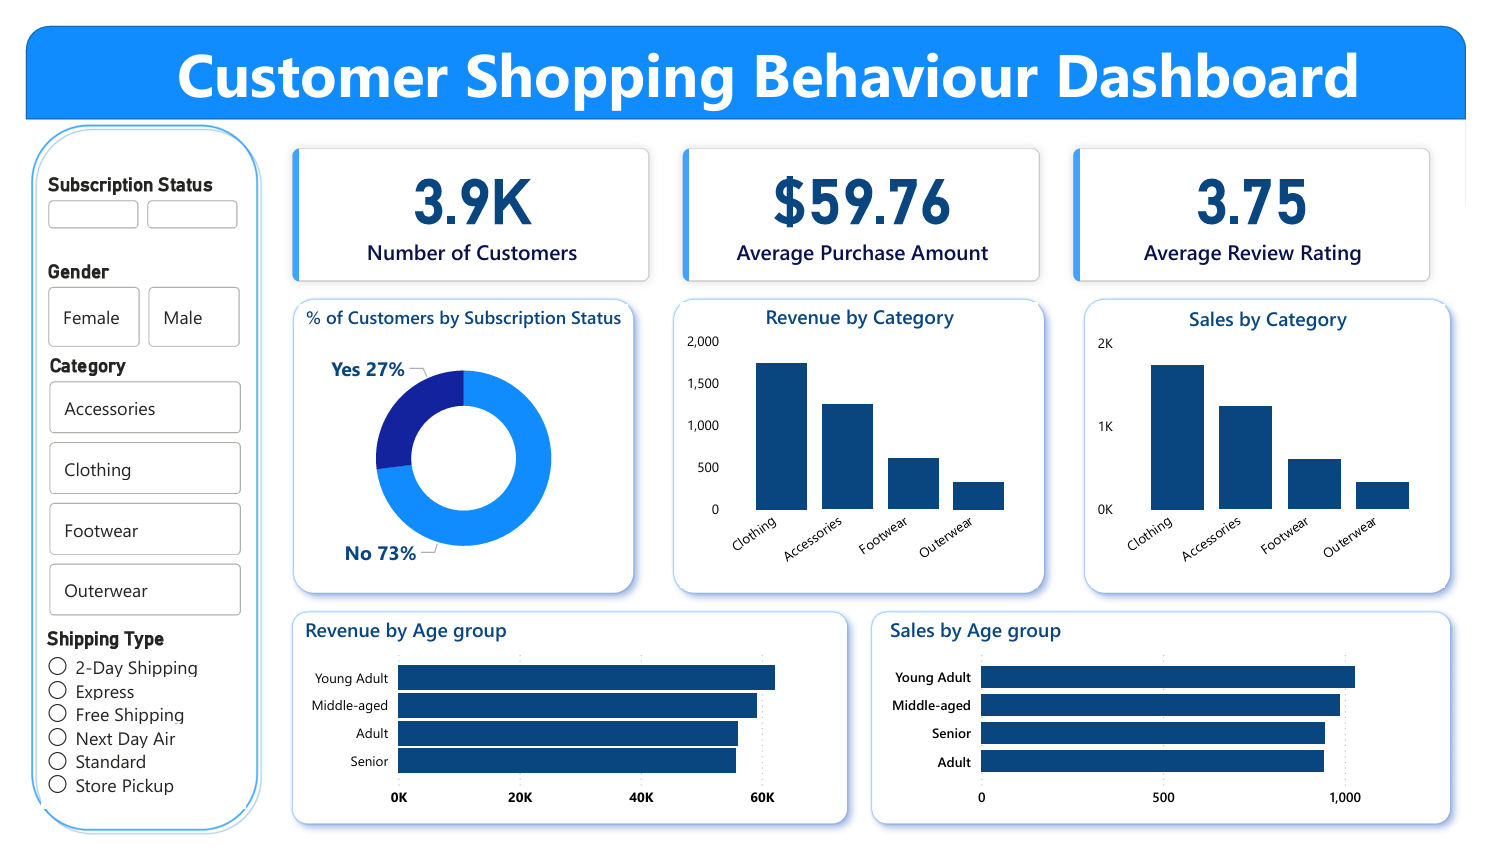

The dashboard page shown, as its layout file describes it:
{"tool":"powerbi","page":{"name":"Page 1","canvas":[1280,720],"ordinal":0},"visuals":[{"type":"shape","box":[225.7,510,515.7,210],"z":0},{"type":"cardVisual","fields":{"Data":["public customer_data_table.Number of Customers","public customer_data_table.Average Purchase Amount","public customer_data_table.Average Review Rating"]},"box":[208.6,81.4,1068.6,174.3],"z":1000},{"type":"shape","box":[0,0,1280,82.9],"z":2000},{"type":"textbox","box":[107.1,0,1105.7,82.9],"z":3000},{"type":"shape","box":[227.1,231.9,324.3,282.9],"z":4000},{"type":"donutChart","title":"% of Customers by Subscription Status","fields":{"Category":["public customer_data_table.subscription_status"],"Y":["CountNonNull(public customer_data_table.customer_id)"]},"box":[243.3,247.6,291.4,250],"z":5000},{"type":"shape","box":[565,231.9,351.4,282.9],"z":6000},{"type":"shape","box":[930,231.9,347.1,282.9],"z":7000},{"type":"clusteredColumnChart","title":"Revenue by Category","fields":{"Y":["CountNonNull(public customer_data_table.purchase_amount)"],"Category":["public customer_data_table.category"]},"box":[582.4,246.2,317.1,254.3],"z":8000},{"type":"clusteredColumnChart","title":"Sales by Category","fields":{"Y":["CountNonNull(public customer_data_table.customer_id)"],"Category":["public customer_data_table.category"]},"box":[947.1,247.6,314.3,252.9],"z":9000},{"type":"shape","box":[0,82.9,211.4,637.1],"z":10000},{"type":"advancedSlicerVisual","fields":{"Values":["public customer_data_table.subscription_status"]},"box":[14.7,130.8,179.8,77],"z":11000},{"type":"advancedSlicerVisual","fields":{"Values":["public customer_data_table.gender"]},"box":[14.7,207.9,181,84.4],"z":12000},{"type":"advancedSlicerVisual","fields":{"Values":["public customer_data_table.category"]},"box":[15.9,292.3,181,242.1],"z":13000},{"type":"listSlicer","fields":{"Values":["public customer_data_table.shipping_type"]},"box":[14.3,534.3,181.4,161.4],"z":14000},{"type":"clusteredBarChart","title":"Revenue by Age group","fields":{"Y":["Sum(public customer_data_table.purchase_amount)"],"Category":["public customer_data_table.age_group"]},"box":[242.9,524.3,481.4,180],"z":15000},{"type":"shape","box":[741.4,510,535.7,210],"z":16000},{"type":"clusteredBarChart","title":"Sales by Age group","fields":{"Y":["CountNonNull(public customer_data_table.customer_id)"],"Category":["public customer_data_table.age_group"]},"box":[762.9,524.3,492.9,180],"z":17000}]}

Visuals, with their boxes in screenshot pixels (x1, y1, x2, y2), scaled from the page's 1280x720 canvas onto the 1488x852 screenshot:
shape: (262,604,862,851)
cardVisual - public customer_data_table.Number of Customers x public customer_data_table.Average Purchase Amount: (242,96,1485,303)
shape: (0,0,1487,98)
textbox: (125,0,1410,98)
shape: (264,274,641,609)
"% of Customers by Subscription Status" donutChart: (283,293,622,589)
shape: (657,274,1065,609)
shape: (1081,274,1485,609)
"Revenue by Category" clusteredColumnChart: (677,291,1046,592)
"Sales by Category" clusteredColumnChart: (1101,293,1466,592)
shape: (0,98,246,851)
advancedSlicerVisual - public customer_data_table.subscription_status: (17,155,226,246)
advancedSlicerVisual - public customer_data_table.gender: (17,246,228,346)
advancedSlicerVisual - public customer_data_table.category: (18,346,229,632)
listSlicer - public customer_data_table.shipping_type: (17,632,228,823)
"Revenue by Age group" clusteredBarChart: (282,620,842,833)
shape: (862,604,1485,851)
"Sales by Age group" clusteredBarChart: (887,620,1460,833)
